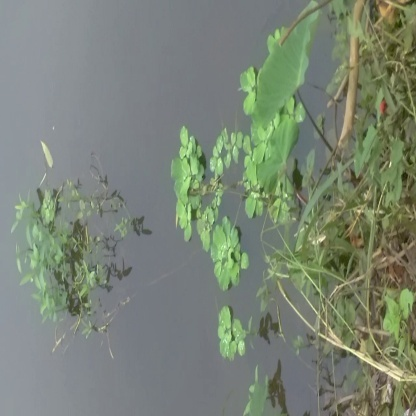leaf: (168, 124, 205, 244)
